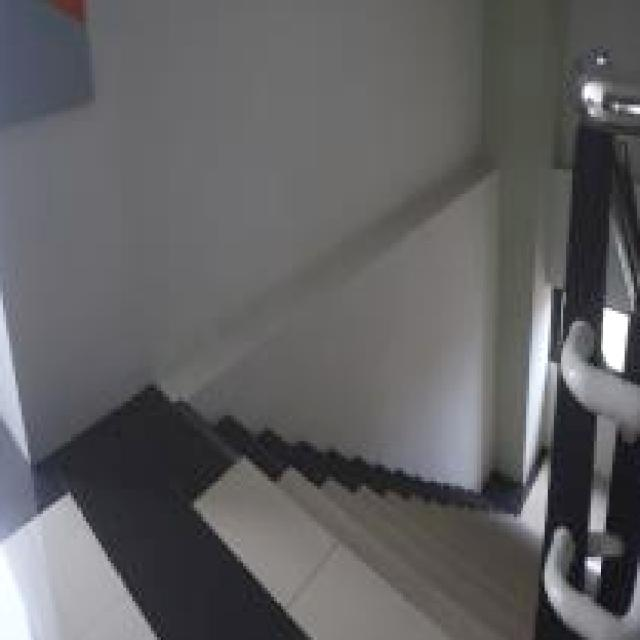downstair: (214, 493, 503, 640)
